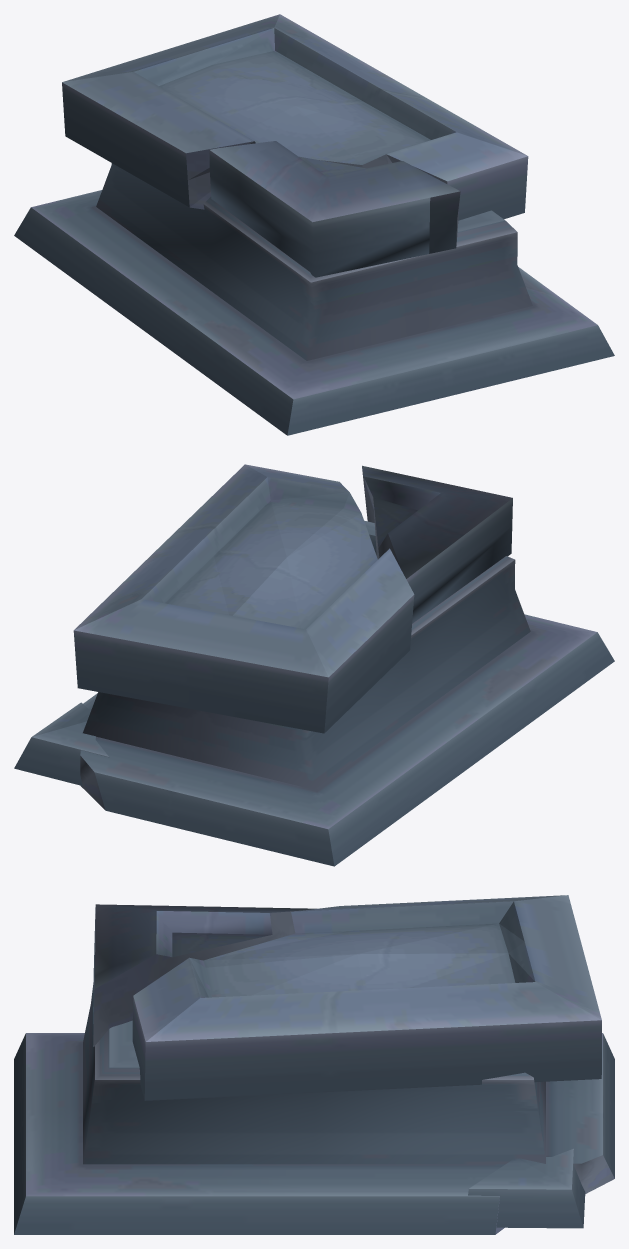
File: Obstacle1B-002_02_07_3816.fbx
3 views of the same model, one above another, from view 1: azimuth 30°, elevation 25°; view 2: azimuth 150°, elevation 25°; view 3: azimuth 270°, elevation 25° (orthographic). The views are drawn at different scales.
Parts seen in each view (by area): view 1: CoffinBaseBroken1, CoffinCoverBroken1, CoffinCoverBroken2; view 2: CoffinBaseBroken1, CoffinCoverBroken1, CoffinCoverBroken2, CoffinBaseBroken2; view 3: CoffinBaseBroken1, CoffinCoverBroken1, CoffinCoverBroken2, CoffinBaseBroken2.
Part boxes in pixels (left/top/right/bottom): CoffinBaseBroken1: left=14, top=163, right=614, bottom=435; CoffinCoverBroken1: left=62, top=14, right=528, bottom=220; CoffinCoverBroken2: left=209, top=141, right=460, bottom=277; CoffinBaseBroken1: left=80, top=520, right=614, bottom=866; CoffinCoverBroken1: left=73, top=464, right=414, bottom=733; CoffinCoverBroken2: left=362, top=465, right=512, bottom=623; CoffinBaseBroken2: left=14, top=702, right=109, bottom=785; CoffinBaseBroken1: left=14, top=982, right=614, bottom=1234; CoffinCoverBroken1: left=132, top=895, right=601, bottom=1100; CoffinCoverBroken2: left=93, top=904, right=316, bottom=1046; CoffinBaseBroken2: left=468, top=1148, right=585, bottom=1228.
Bounding box in the file's own units: 2.37 × 1.28 × 3.42.
